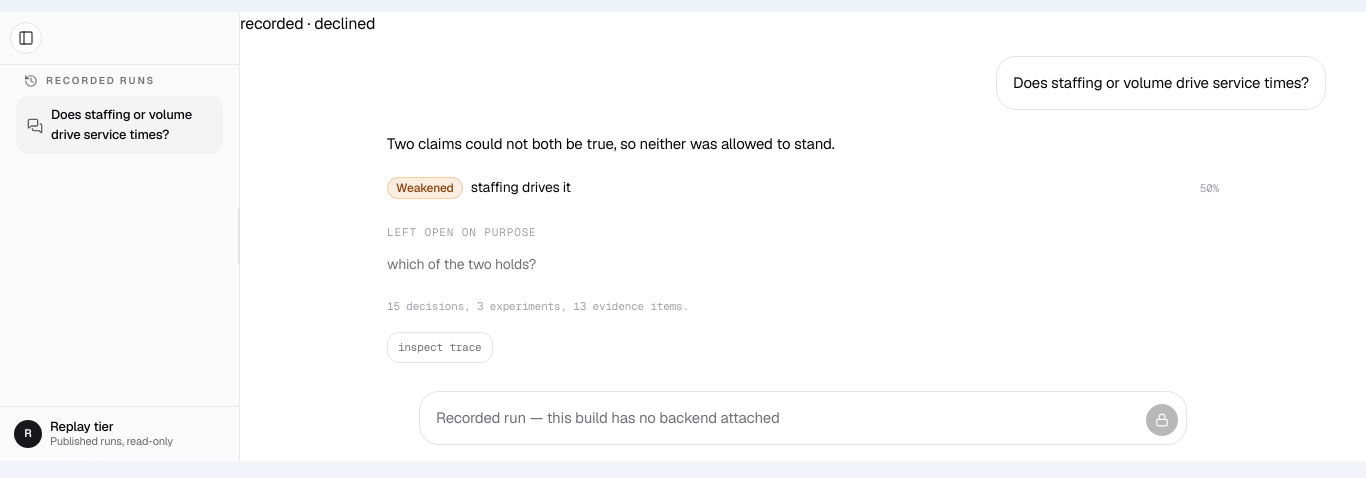
Test: ChatShell › read-only (replay tier) › collapses it again from the same control
Click the button "inspect trace".
click(440, 347)  # box left=387, top=332, right=492, bottom=362
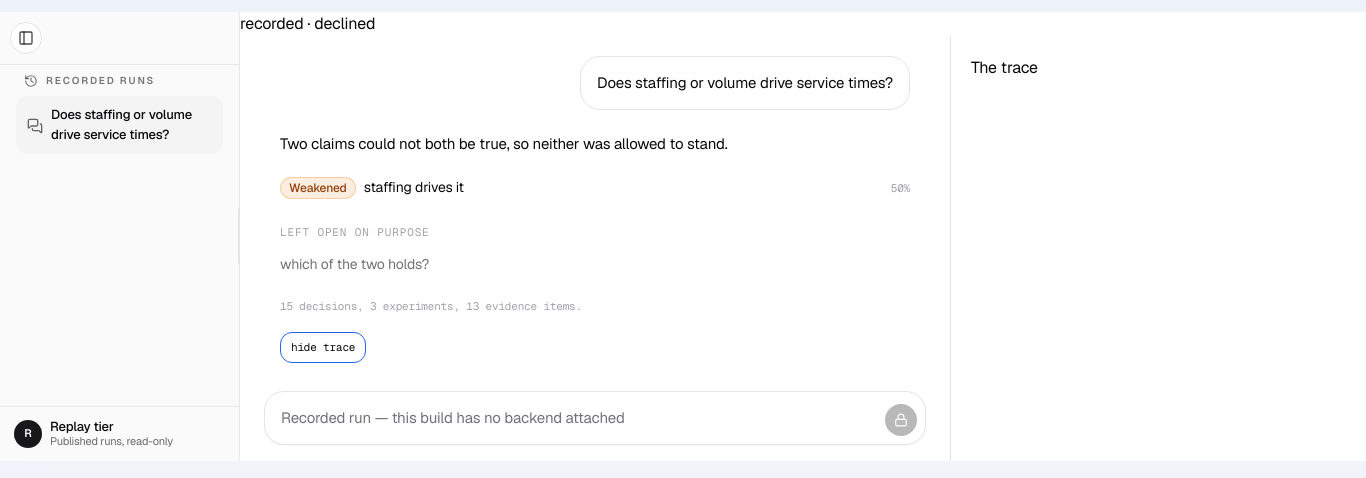
Click the button "hide trace".
click(323, 347)  # box left=280, top=332, right=366, bottom=362
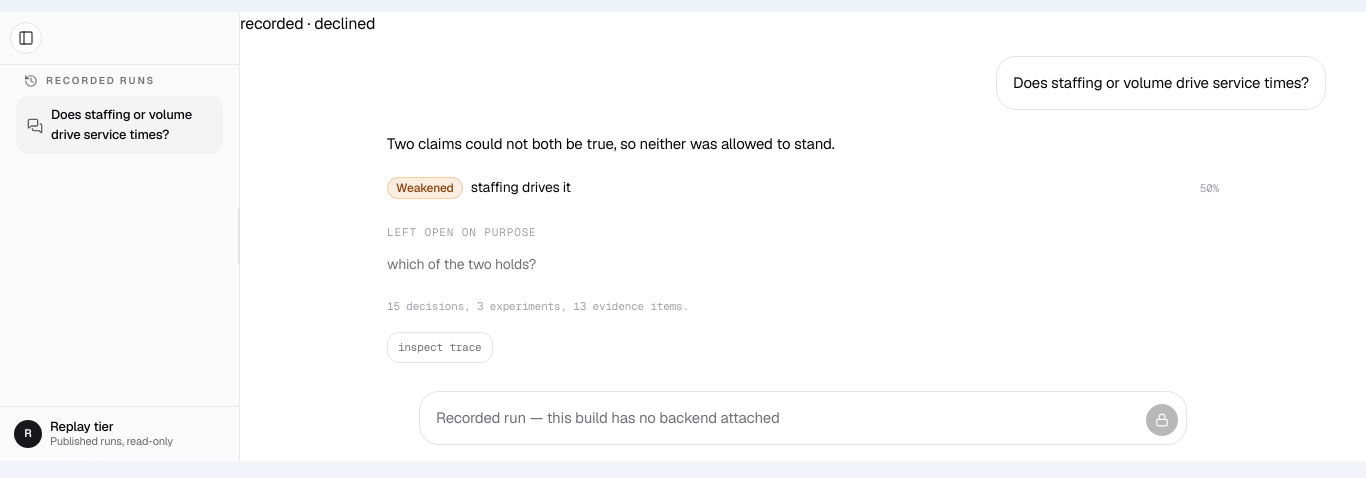
Result: the text "The trace" is gone
